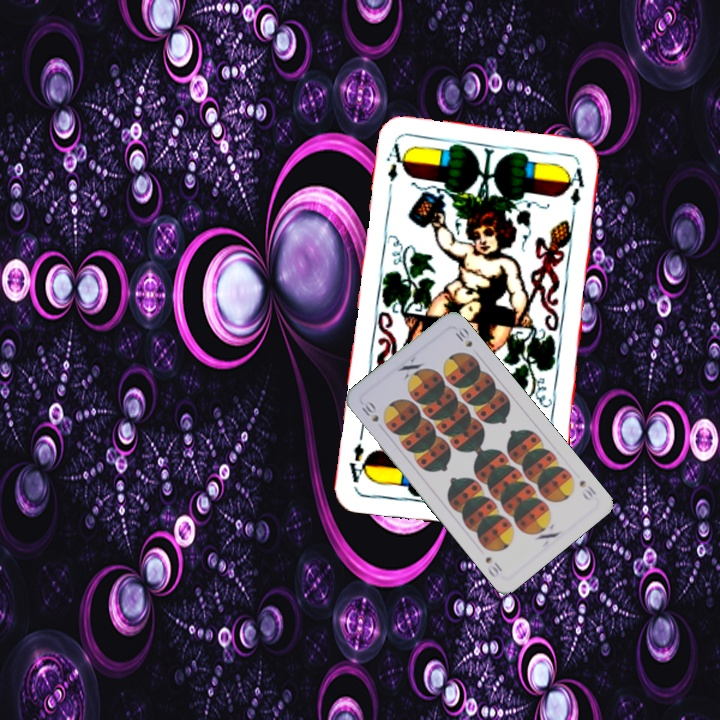EA: (382, 139, 409, 198)
S10: (357, 399, 381, 425), (575, 476, 599, 499)
